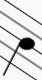note: (1, 0, 36, 80)
